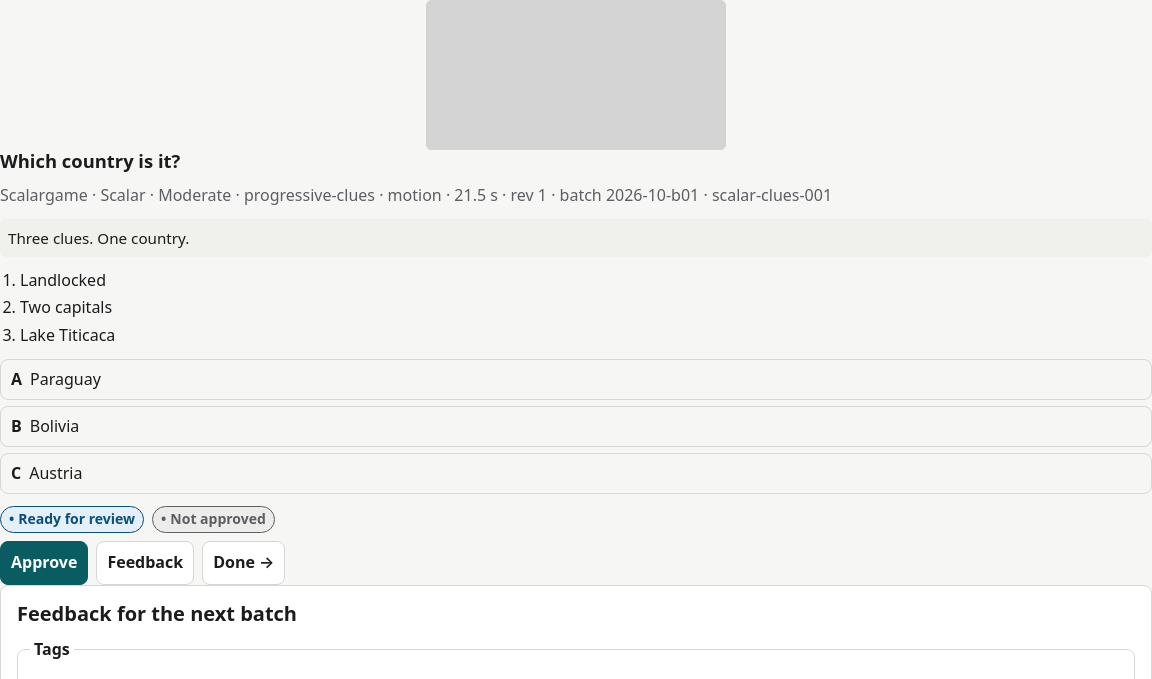
Scenario: Review actions › approves with the existing confirmation, recording the reviewer
Click the button "Approve": (44, 563) top-left (0, 541), bottom-right (88, 585)
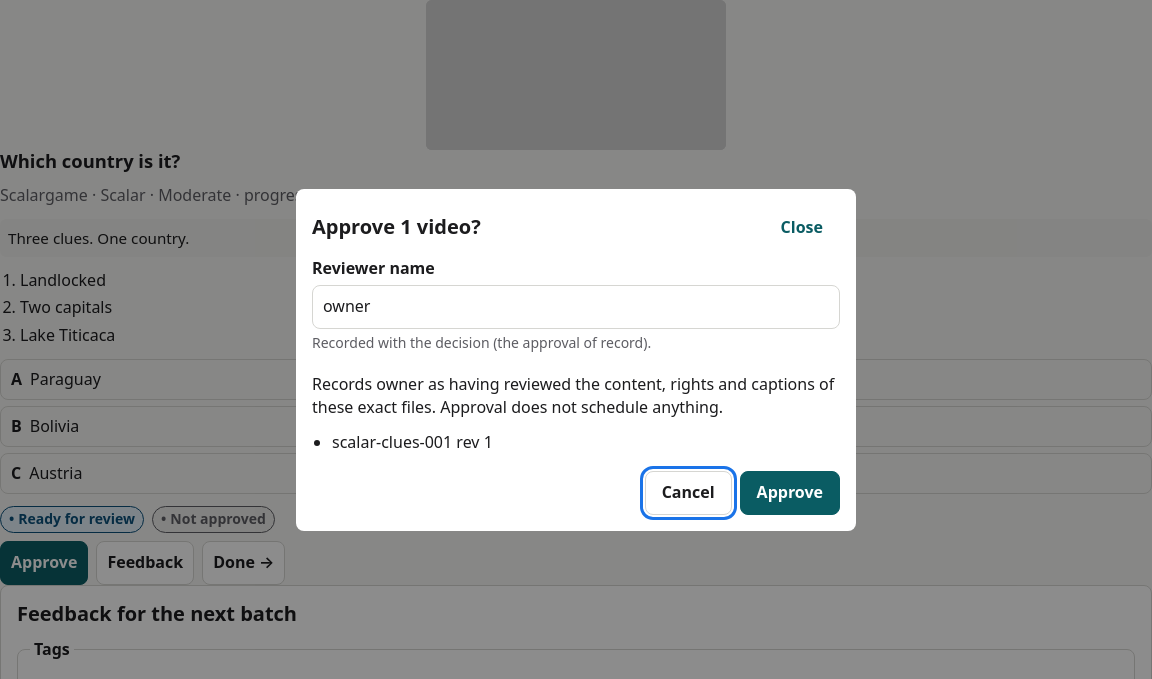
Clear the field labelled "Reviewer name": (576, 307) top-left (312, 285), bottom-right (840, 329)
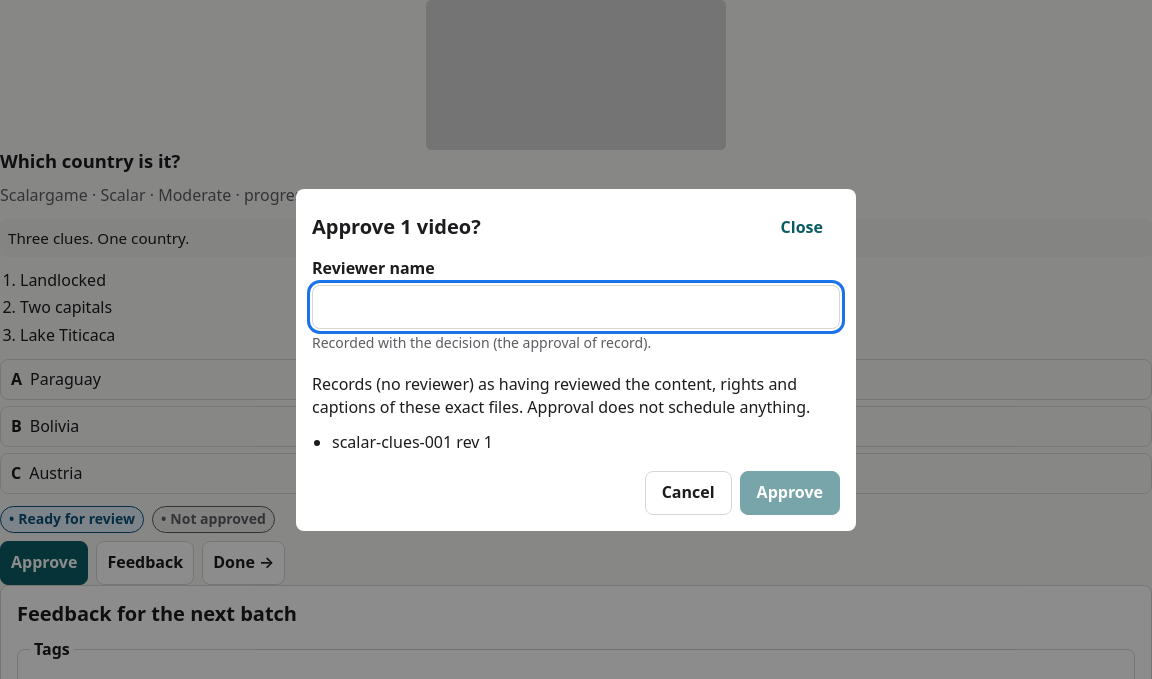
Now the button "Approve" is disabled, box top-left (740, 470), bottom-right (840, 514)
In the field labelled "Reviewer name": (576, 307) top-left (312, 285), bottom-right (840, 329), type "Samir"
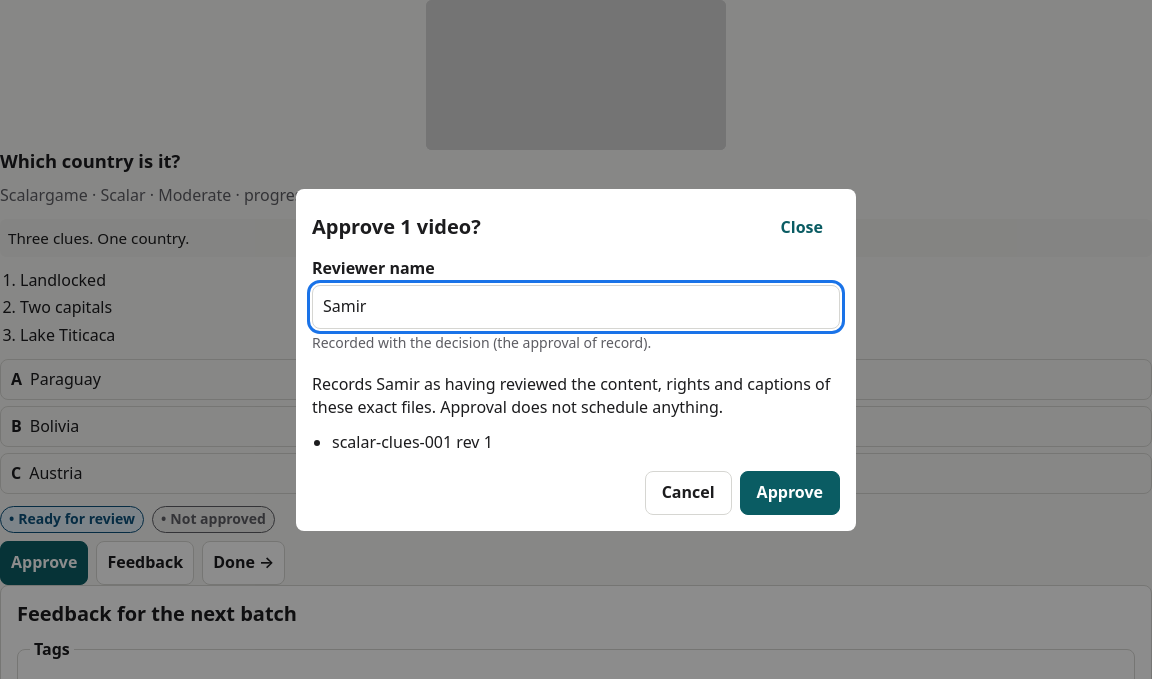
Click the button "Approve": (790, 492) top-left (740, 470), bottom-right (840, 514)
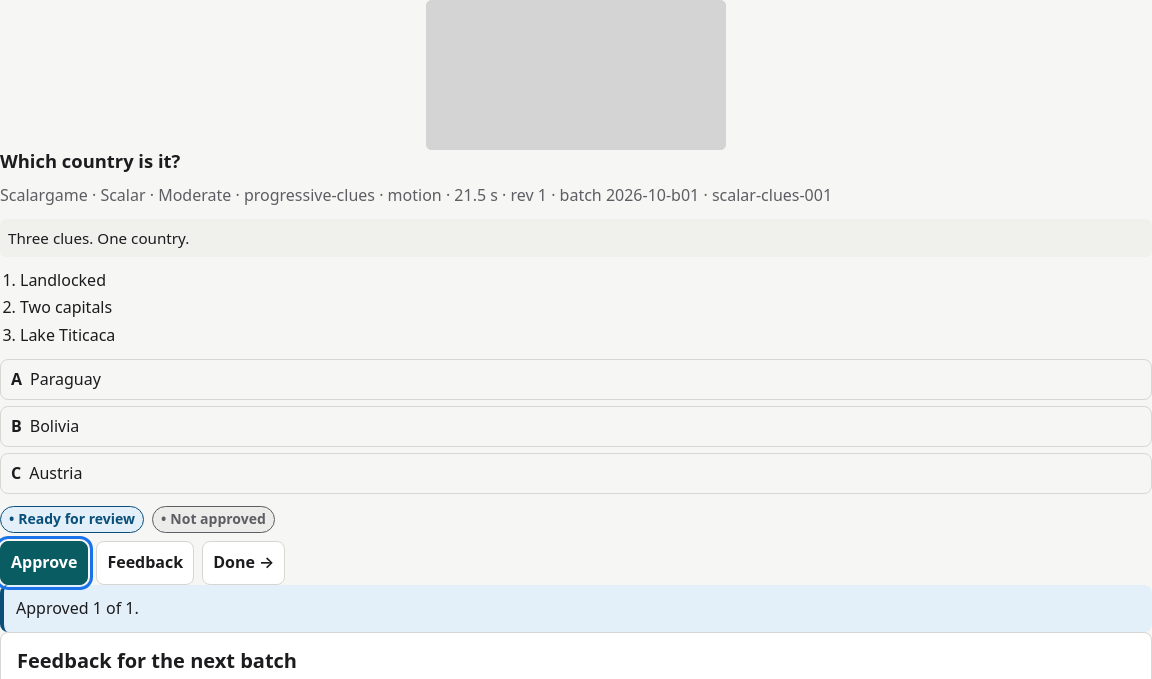
Now the text "Approved 1 of 1." is shown, box top-left (0, 585), bottom-right (1151, 632)
